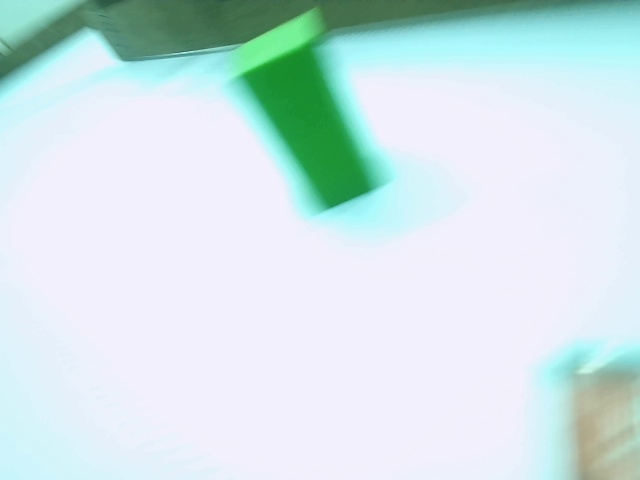green: (209, 20, 391, 214)
